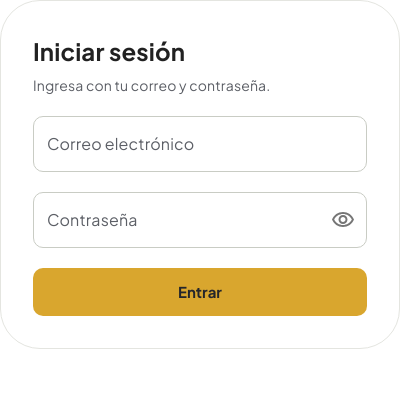
Scenario: LoginForm › shows required errors and does not submit an empty form
This screenshot has width=417, height=412.
Click the button "Entrar" at x=200, y=292, box [33,268,367,316]
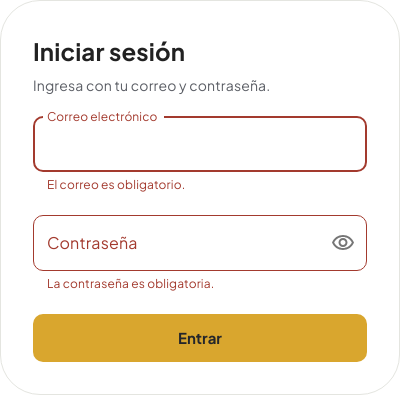
Check: the text "El correo es obligatorio." is shown, box [47,177,185,192]
Check: the text "La contraseña es obligatoria." is shown, box [47,276,214,291]
